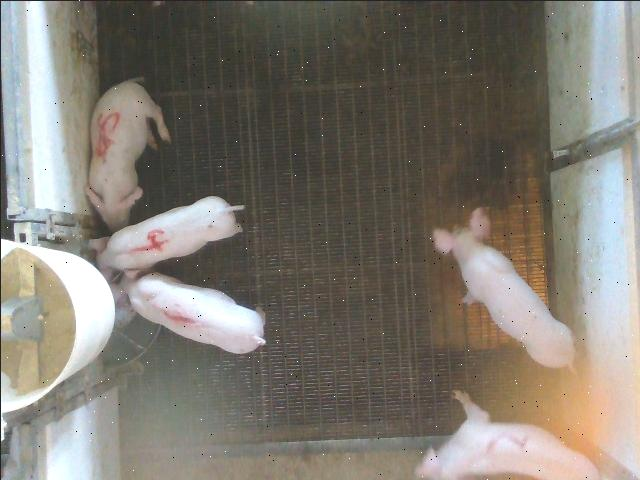pig-1: (125, 271, 264, 352)
pig-2: (415, 390, 599, 479)
pig-4: (98, 195, 242, 271)
pig-5: (84, 78, 170, 231)
